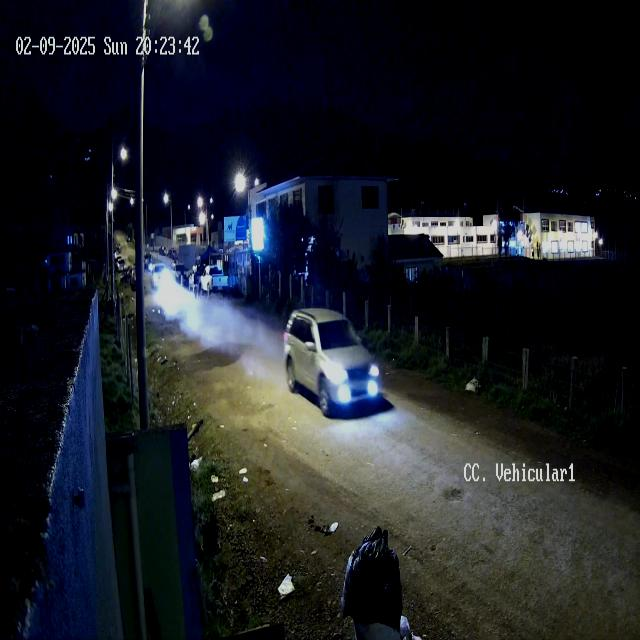SUV: (284, 305, 379, 418)
